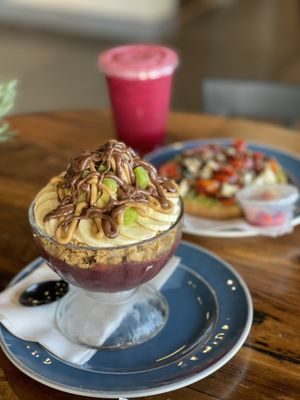pizza: (28, 137, 184, 348), (97, 42, 181, 155)
